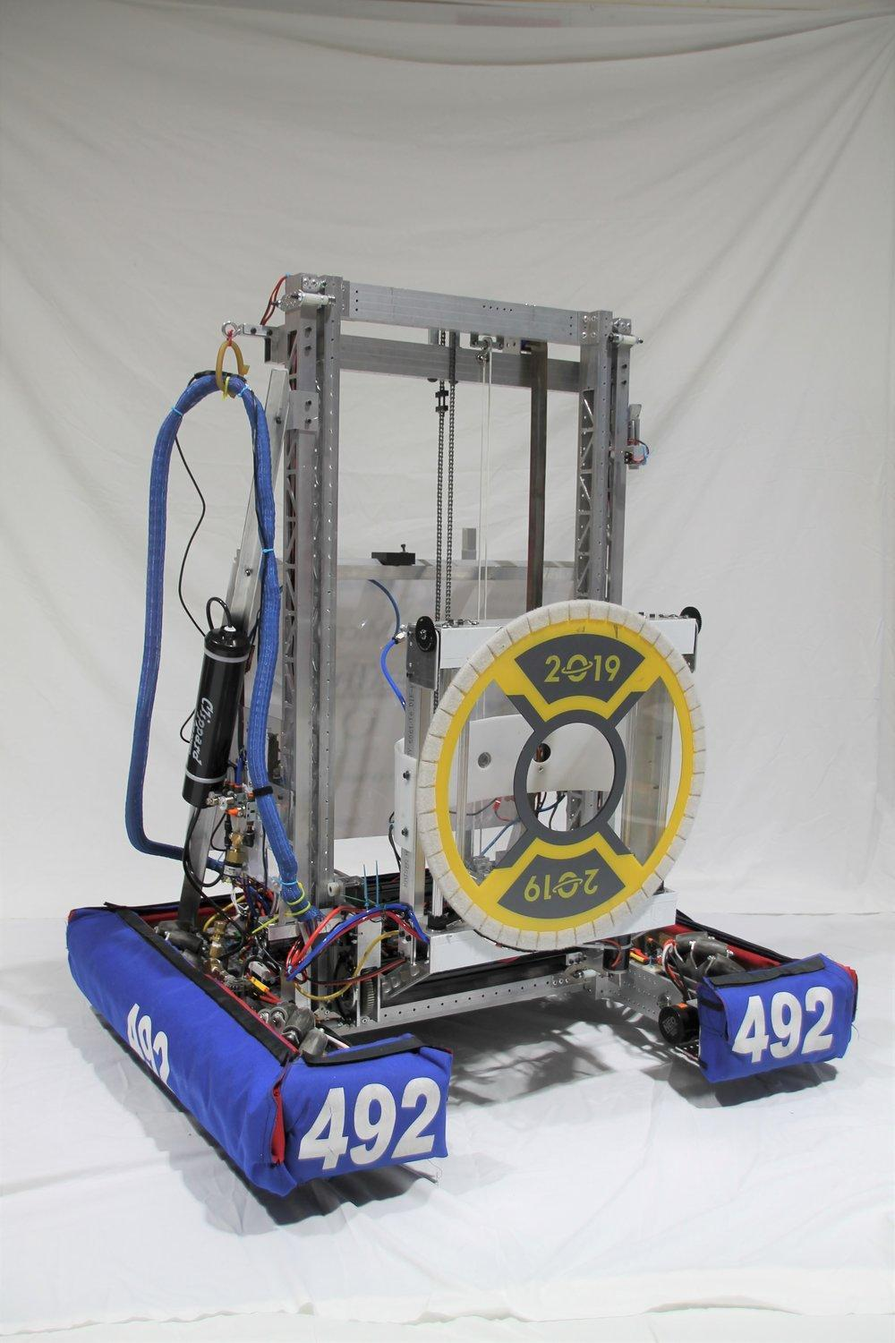robot: (52, 244, 868, 1219)
